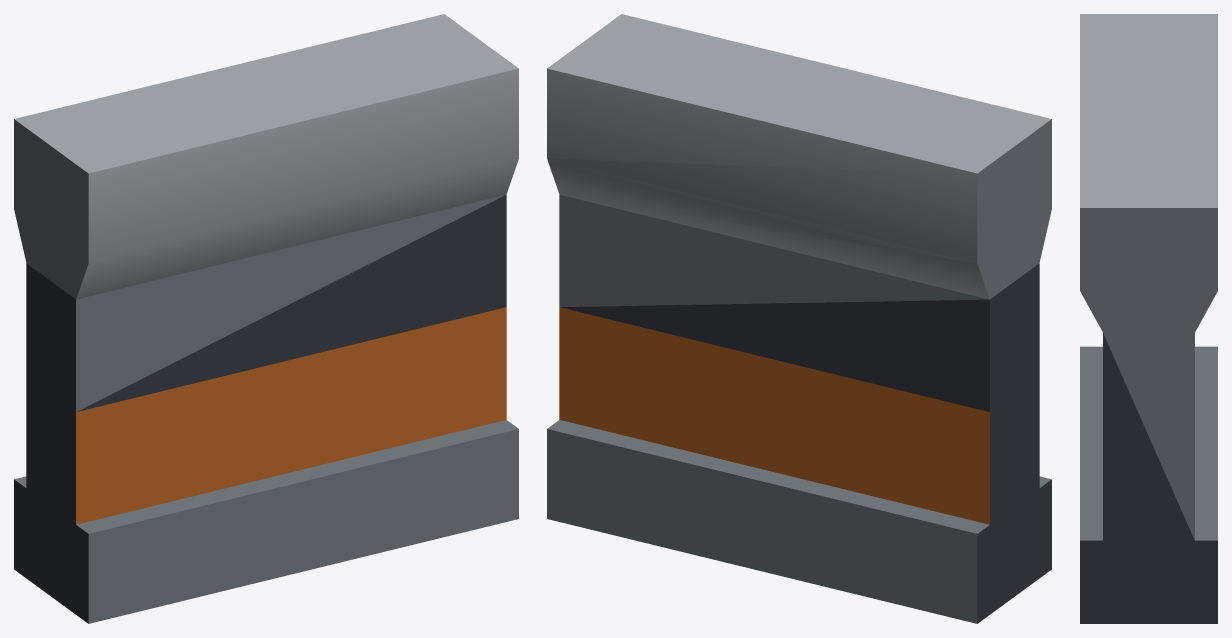
The model's file is Kit_wall-banner.fbx.
3 renders of one model, left to right at view 1: azimuth 30°, elevation 25°; view 2: azimuth 150°, elevation 25°; view 3: azimuth 270°, elevation 25°, orthographic. The views are drawn at different scales.
Visible parts, largest first — view 1: Kit_wall-banner; view 2: Kit_wall-banner; view 3: Kit_wall-banner.
Boxes of the visible parts, left/top/right/bottom form: Kit_wall-banner: left=14, top=14, right=518, bottom=623; Kit_wall-banner: left=547, top=14, right=1051, bottom=623; Kit_wall-banner: left=1080, top=14, right=1217, bottom=623.
Size of the model in its own units: 1 by 1 by 0.3.
